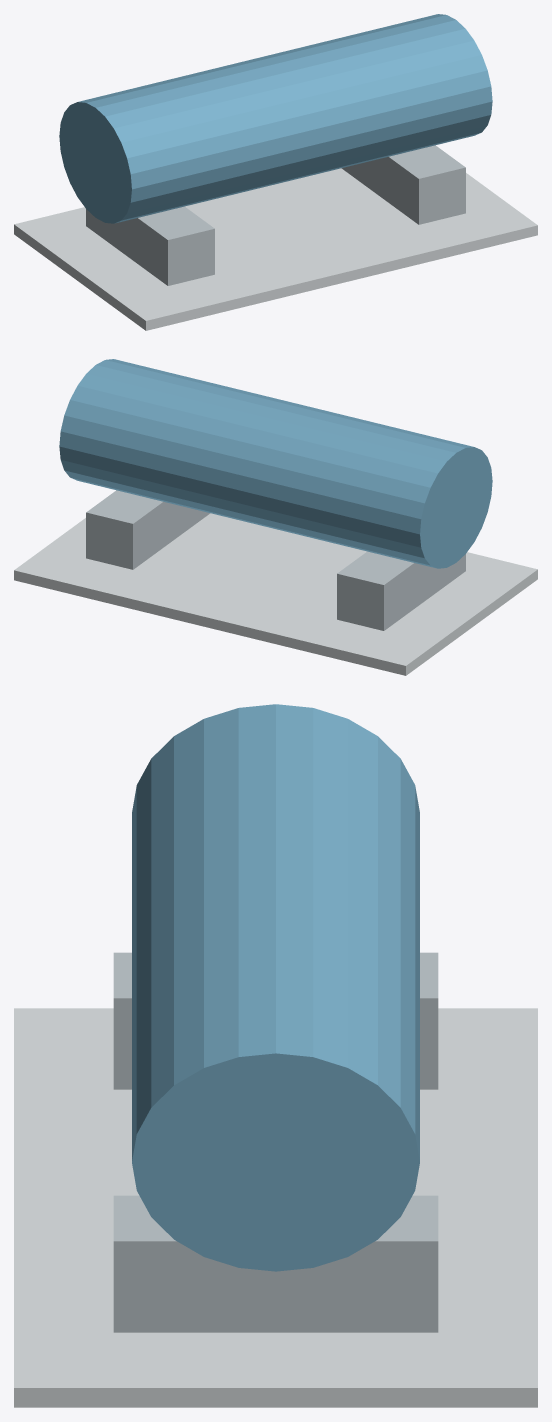
File: scrubber.glb
3 views of the same model, one above another, from view 1: azimuth 30°, elevation 25°; view 2: azimuth 150°, elevation 25°; view 3: azimuth 270°, elevation 25° (orthographic). The views are drawn at different scales.
Visible parts, largest first — view 1: scrubber; view 2: scrubber; view 3: scrubber.
Boxes of the visible parts, left/top/right/bottom form: scrubber: left=14, top=14, right=537, bottom=330; scrubber: left=14, top=359, right=537, bottom=675; scrubber: left=14, top=704, right=537, bottom=1407.
Size of the model in its own units: 12 by 5 by 7.
